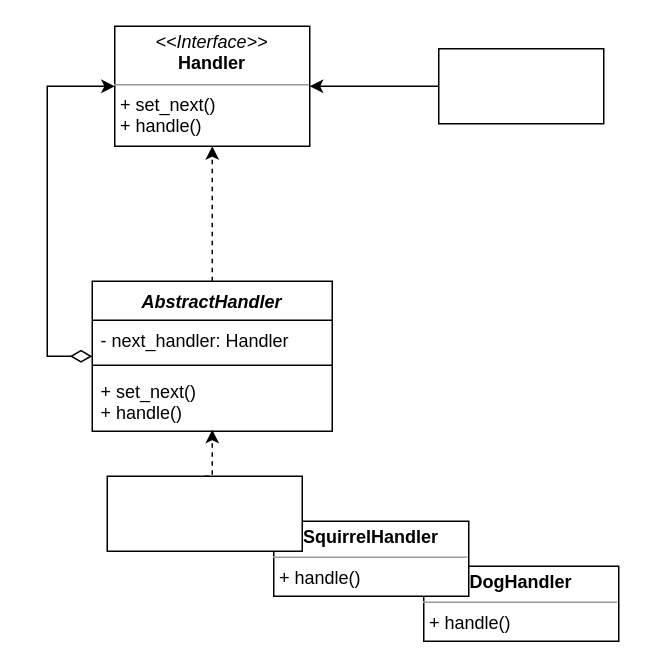
The diagram is 645 pixels wide and 668 high, and some of its shapes have lost their labels. Here are the shapes that lost their labels. From the top down, the centre of each, then its label:
At [520,85]: "client_code".
At [204,513]: "MonkeyHandler + handle()".
